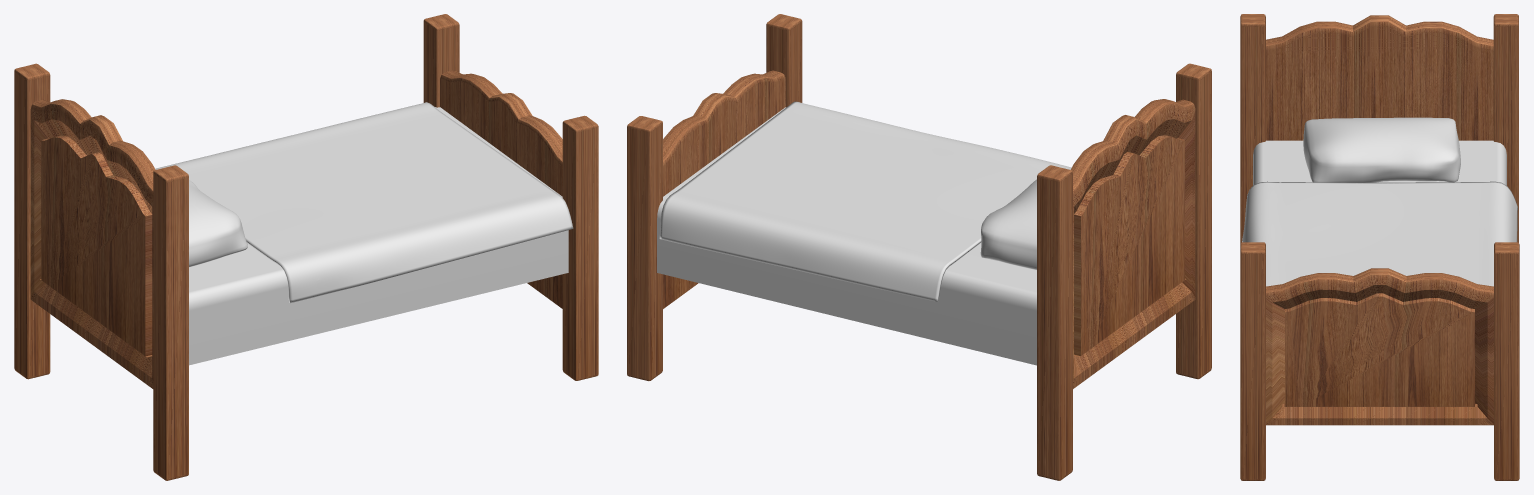
File: bed.fbx
3 views of the same model, side by side, from view 1: azimuth 30°, elevation 25°; view 2: azimuth 150°, elevation 25°; view 3: azimuth 270°, elevation 25° (orthographic). The views are drawn at different scales.
Visible parts, largest first — view 1: polySurface8, blanket, polySurface7, pillow; view 2: polySurface8, blanket, polySurface7, pillow; view 3: polySurface8, blanket, pillow, polySurface7.
Part boxes in pixels (x1,y1,x2,y2): polySurface8: (14, 14, 598, 480); blanket: (155, 102, 573, 303); polySurface7: (189, 107, 568, 365); pillow: (189, 180, 247, 267); polySurface8: (627, 14, 1211, 480); blanket: (659, 101, 1071, 301); polySurface7: (657, 107, 1036, 365); pillow: (980, 179, 1036, 269); polySurface8: (1240, 14, 1519, 480); blanket: (1242, 181, 1517, 286); pillow: (1303, 117, 1460, 182); polySurface7: (1253, 140, 1506, 185).
Size of the model in its own units: 78.25 by 52.43 by 47.82.
Materials: 4 (1 with a texture image).
